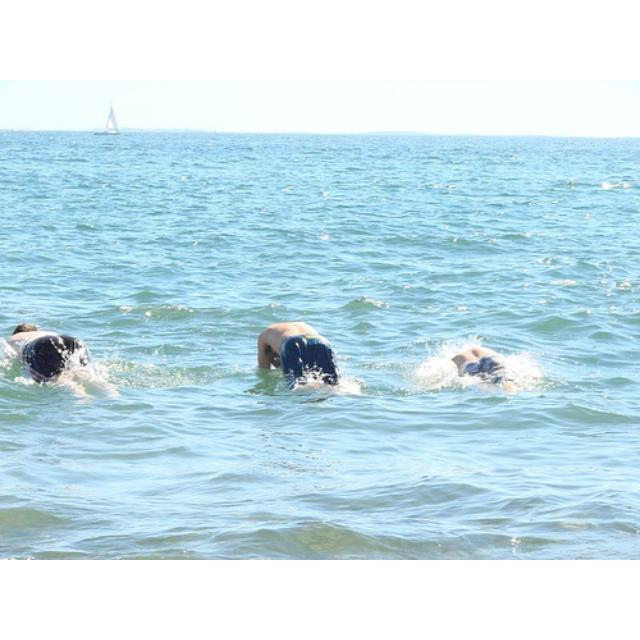human: (255, 321, 344, 393), (10, 321, 94, 388), (453, 347, 523, 391)
